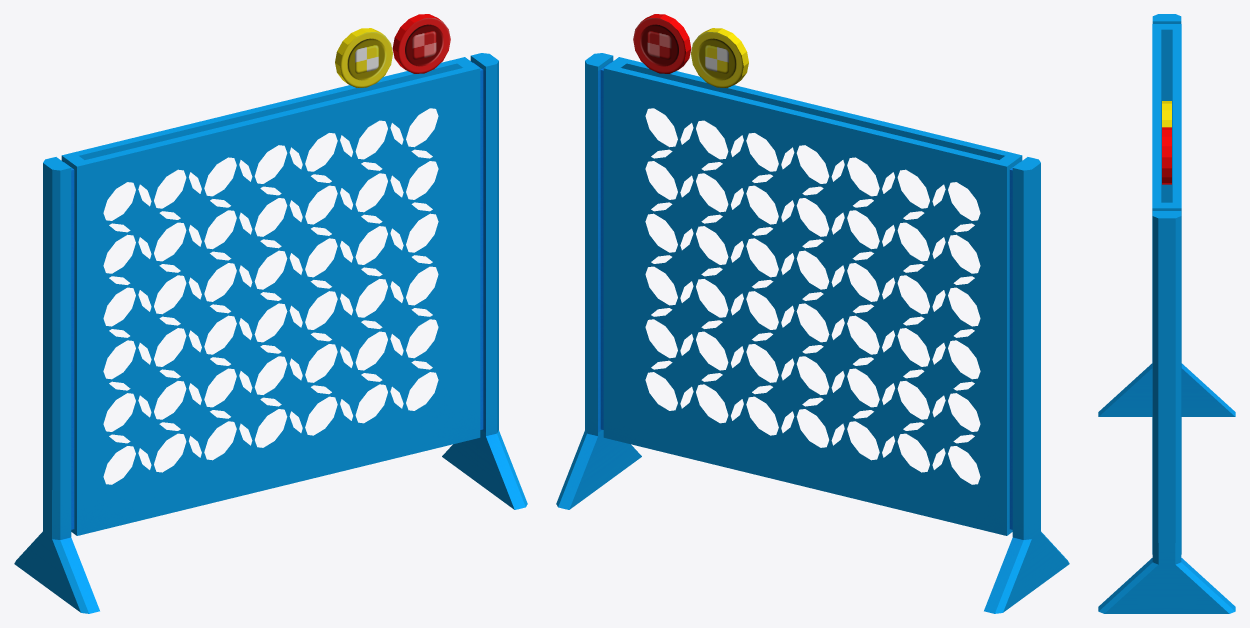
3 renders of one model, left to right at view 1: azimuth 30°, elevation 25°; view 2: azimuth 150°, elevation 25°; view 3: azimuth 270°, elevation 25°, orthographic. The views are drawn at different scales.
Visible parts, largest first — view 1: Board, RedPuck, YellowPuck; view 2: Board, RedPuck, YellowPuck; view 3: Board, RedPuck, YellowPuck.
Part boxes in pixels (left/top/right/bottom): Board: left=14, top=53, right=527, bottom=613; RedPuck: left=392, top=14, right=450, bottom=73; YellowPuck: left=335, top=28, right=392, bottom=87; Board: left=556, top=53, right=1069, bottom=613; RedPuck: left=633, top=14, right=691, bottom=73; YellowPuck: left=691, top=28, right=748, bottom=87; Board: left=1098, top=14, right=1235, bottom=613; RedPuck: left=1162, top=127, right=1171, bottom=184; YellowPuck: left=1162, top=101, right=1171, bottom=127.
Size of the model in its own units: 2.22 by 2.28 by 0.6278.
Materials: 1 (1 with a texture image).
